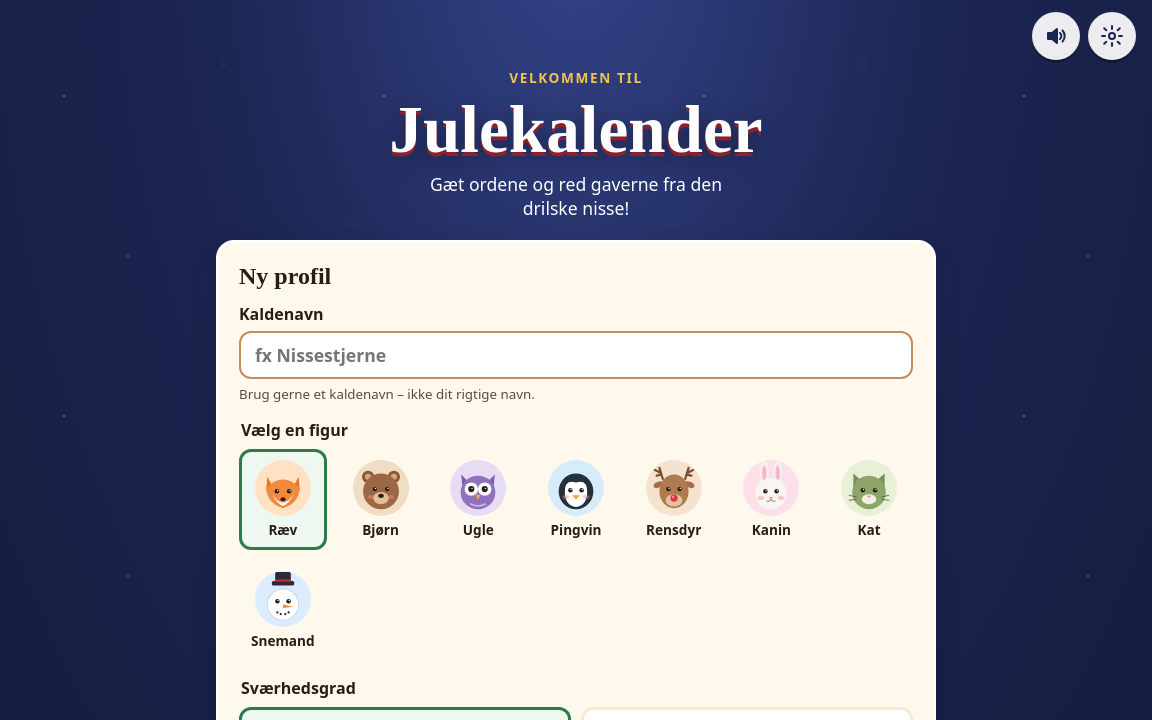
it: app-flow › skrivefejl giver en forståelig besked
Step 1. Type "Fejl" into the field labelled "Kaldenavn Brug gerne et kaldenavn – ikke dit rigtige navn." → point(576, 355), box [239,331,913,379]
(page scrolled)
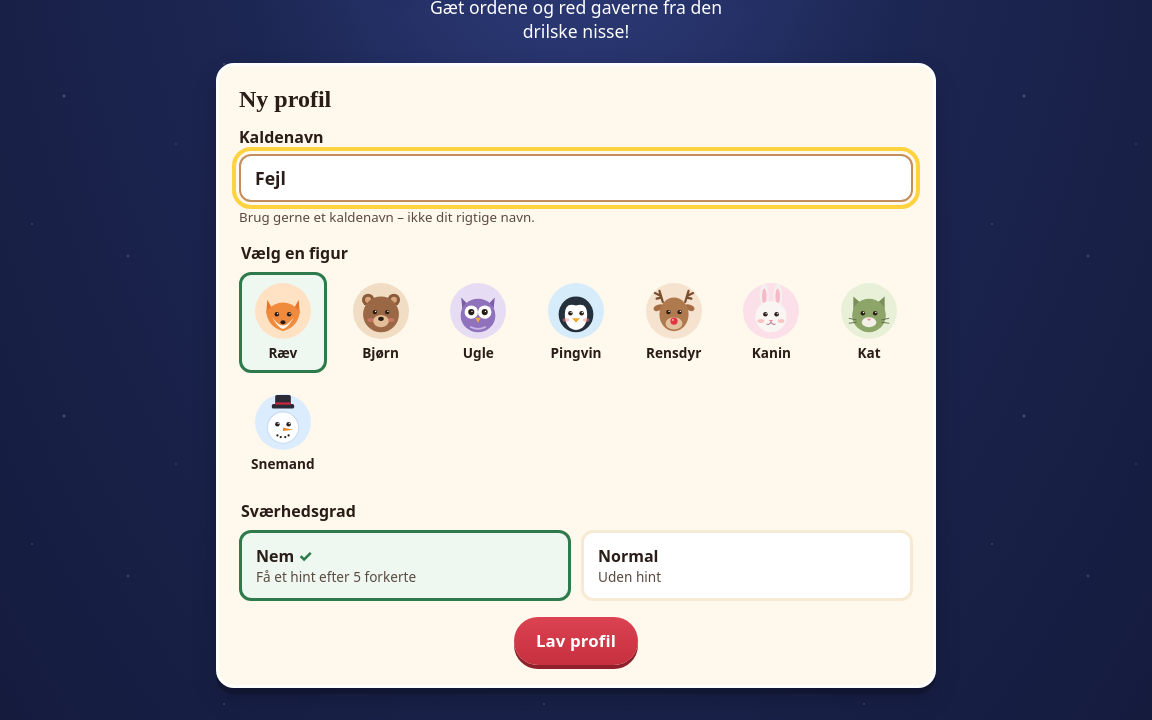
Step 2. Click the text "Normal" → point(628, 556), box [598,545,658,567]
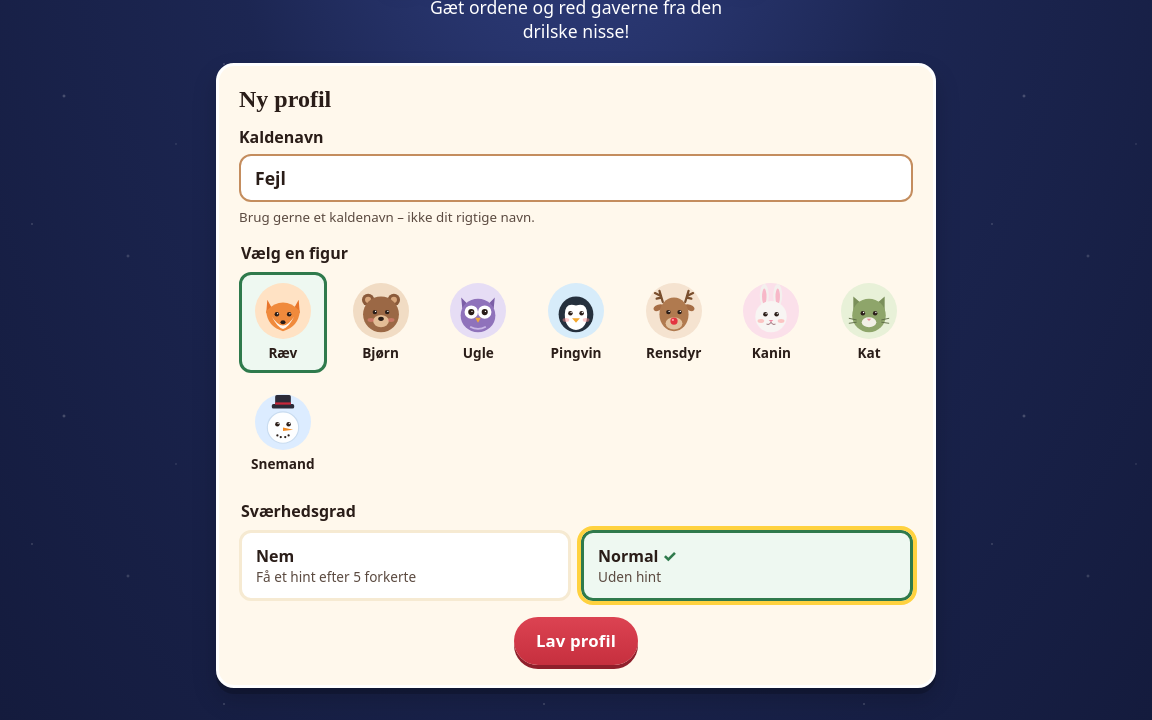
Step 3. Click the button "Lav profil" → point(576, 641), box [514,617,638,665]
(page scrolled)
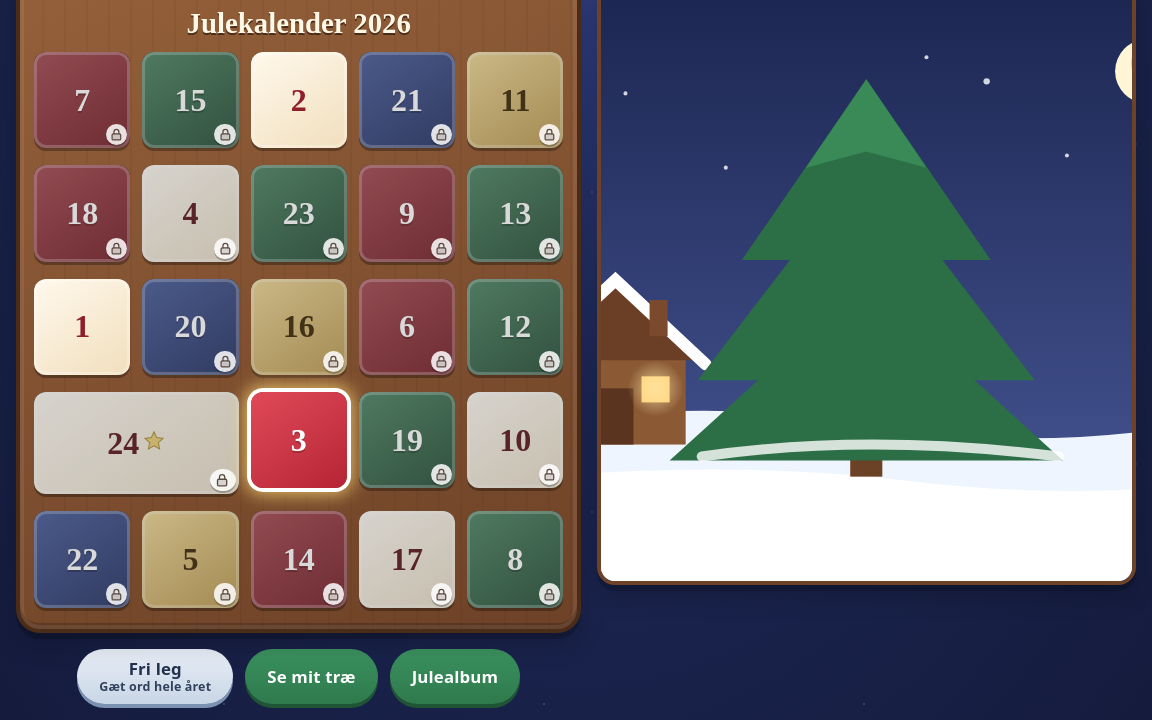
Step 4. Click the button "2" → point(299, 100), box [251,52,347,148]
(page scrolled)
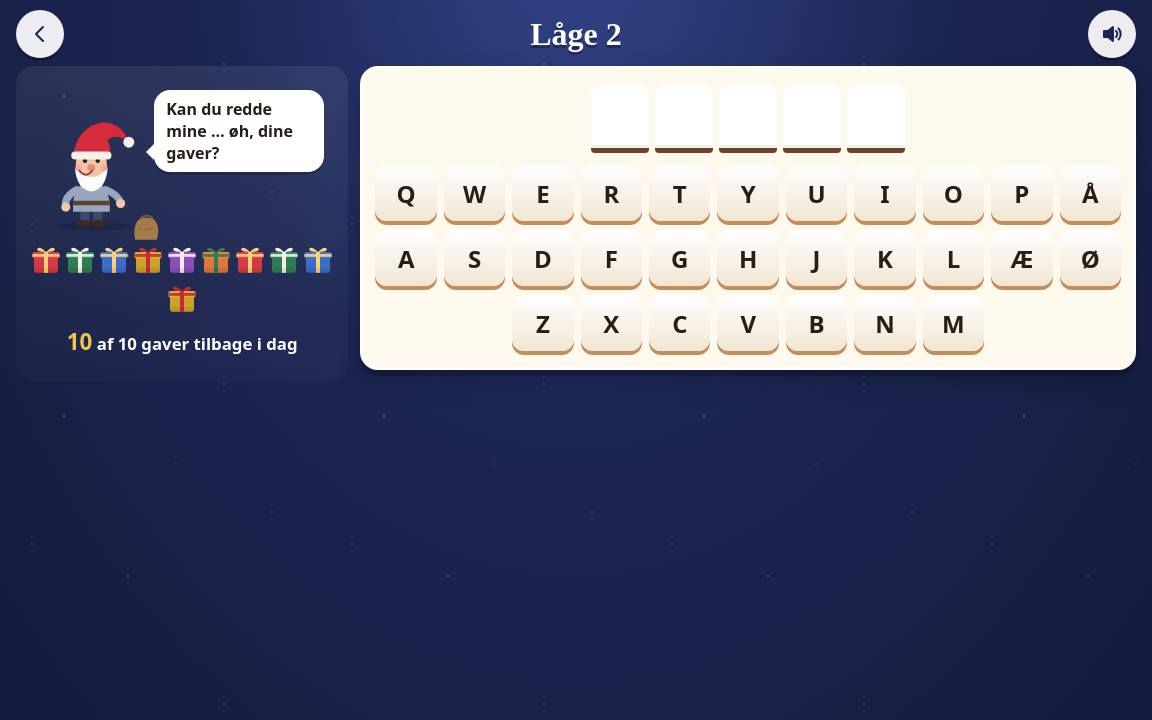
Expected: the heading "Låge 2" is shown, [530,16,622,52]
Step 5. Click the button "Q" → point(406, 193), box [376,165,437,221]
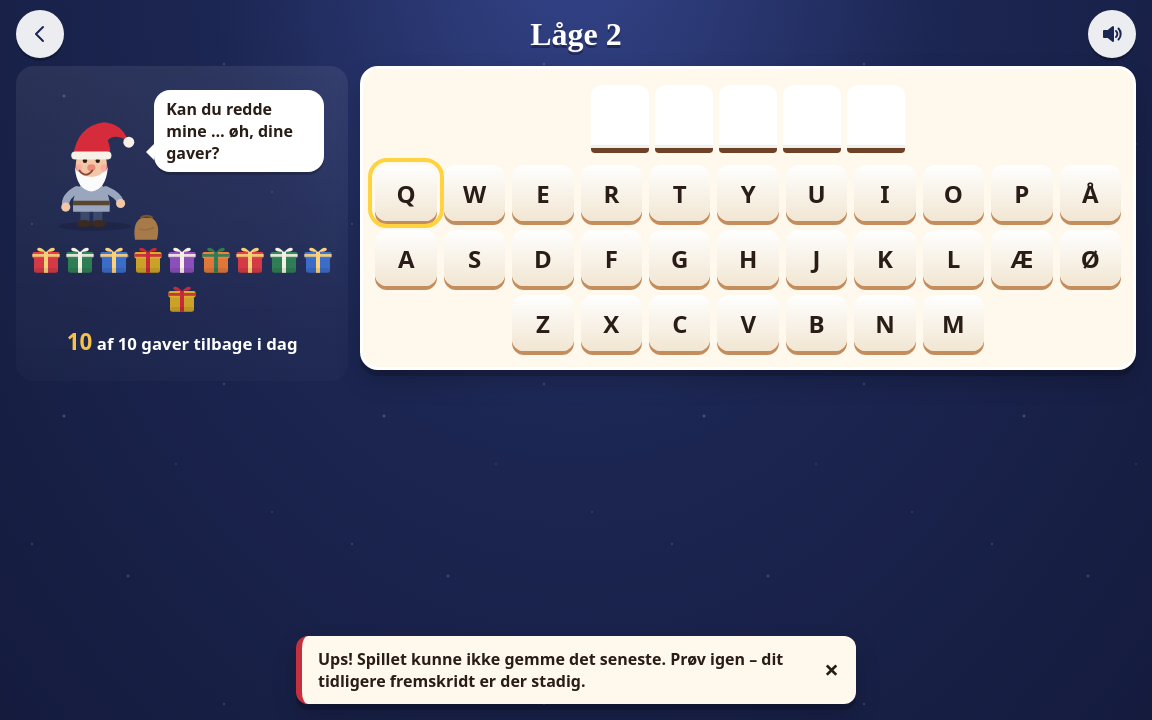
Expected: the text "kunne ikke gemme det seneste" is shown, [318,648,783,692]
